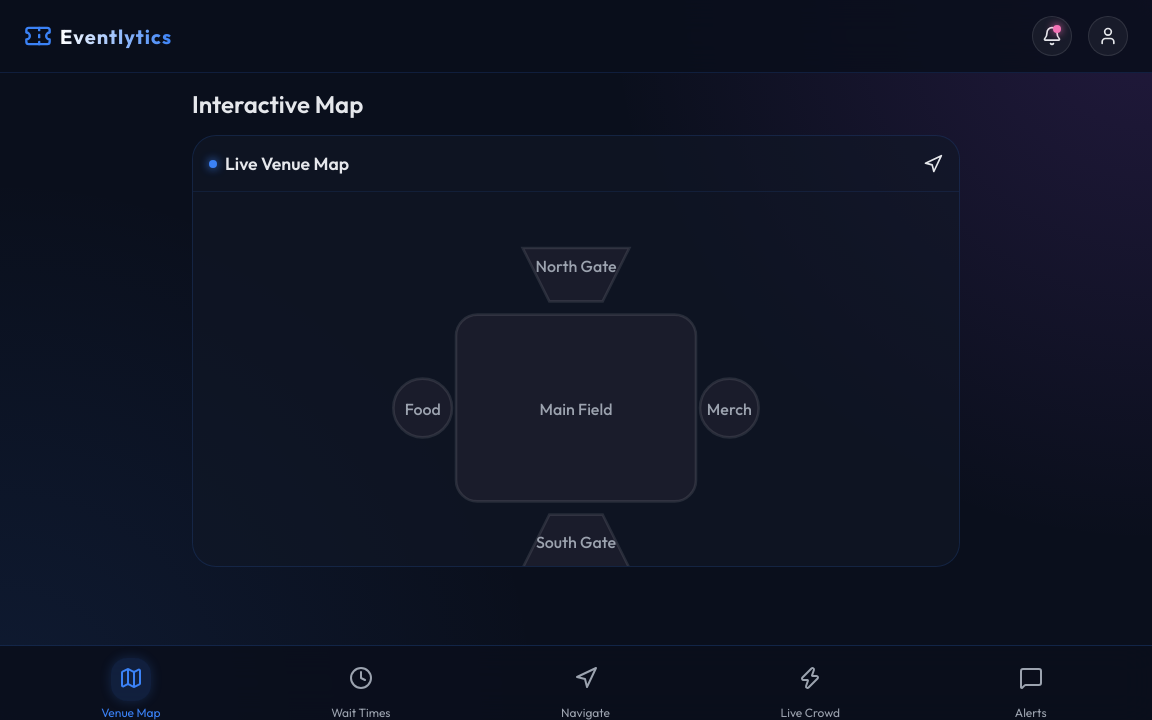
Test: App — Integration & Edge Cases › Login shows Guest Mode option when auth is null
Click the button named "Login".
click(1108, 36)  # box [1088, 16, 1128, 56]
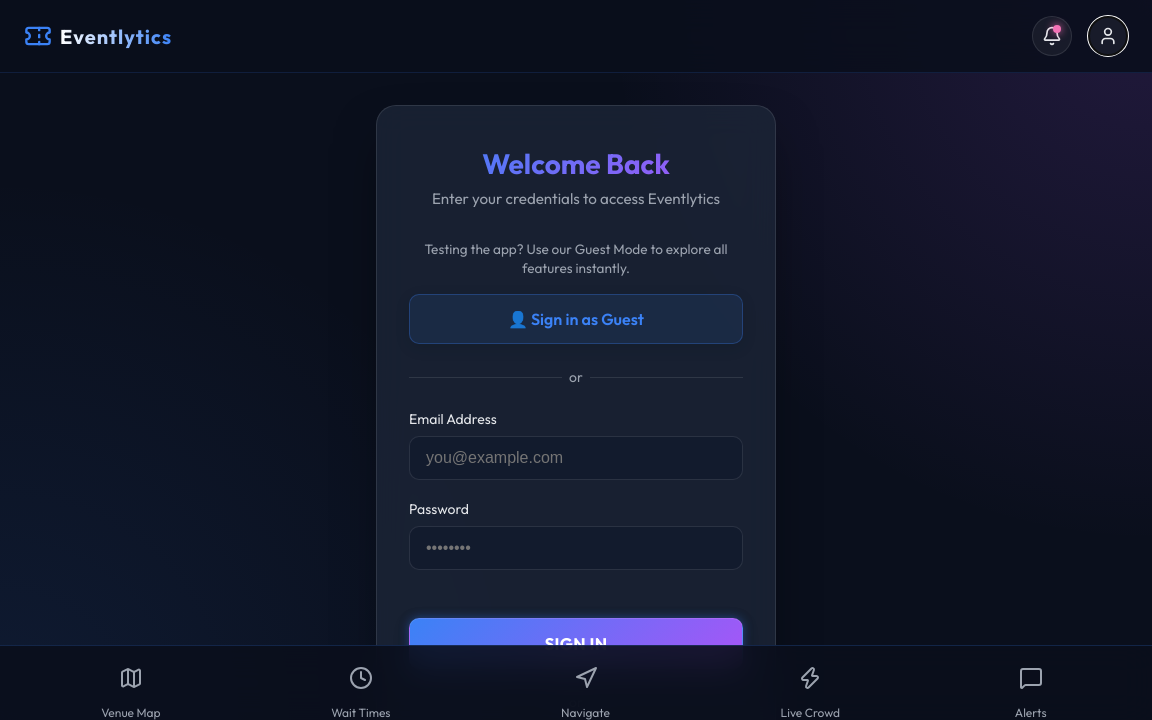
Now the text "Use our Guest Mode" is shown, box [424, 240, 728, 277]
